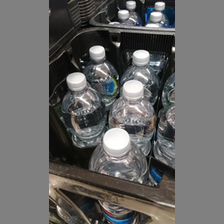water: (87, 128, 147, 217), (108, 80, 154, 156), (62, 70, 105, 144), (119, 47, 160, 102), (85, 43, 117, 104)
